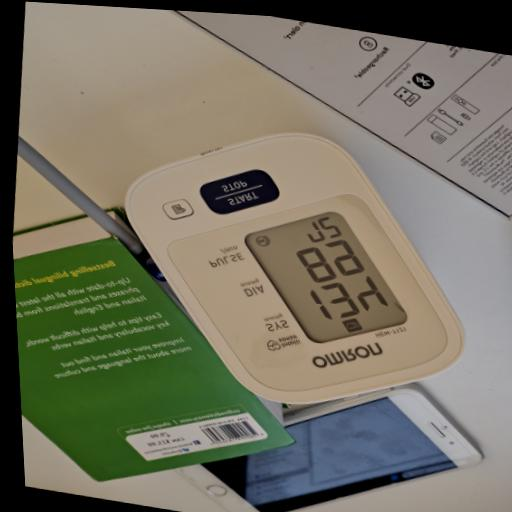blood pressure monitor: (99, 101, 491, 435)
